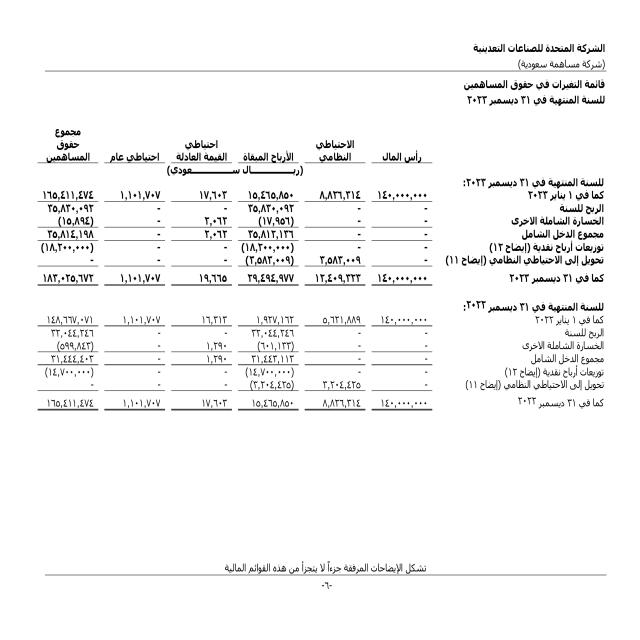financial_sheets: (457, 76, 611, 96)
table: (29, 120, 433, 432)
